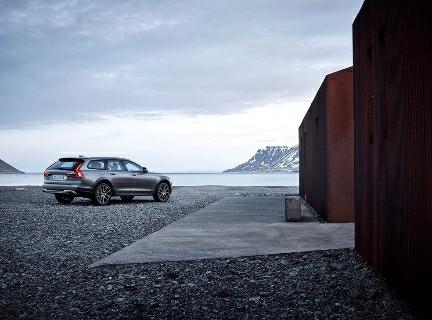沃尔沃-C30: (36, 150, 178, 206)
